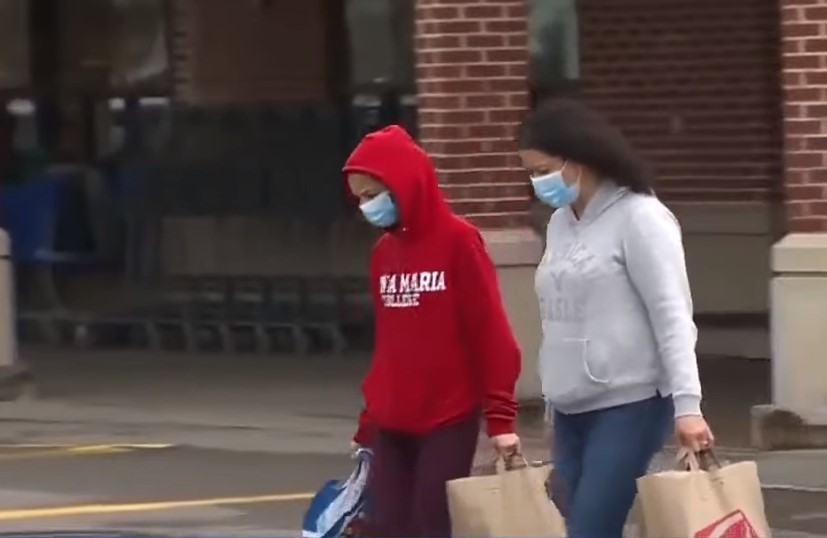face_with_mask: (345, 133, 428, 234), (519, 112, 596, 211)
